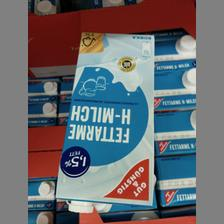Milch: (56, 29, 158, 210)
